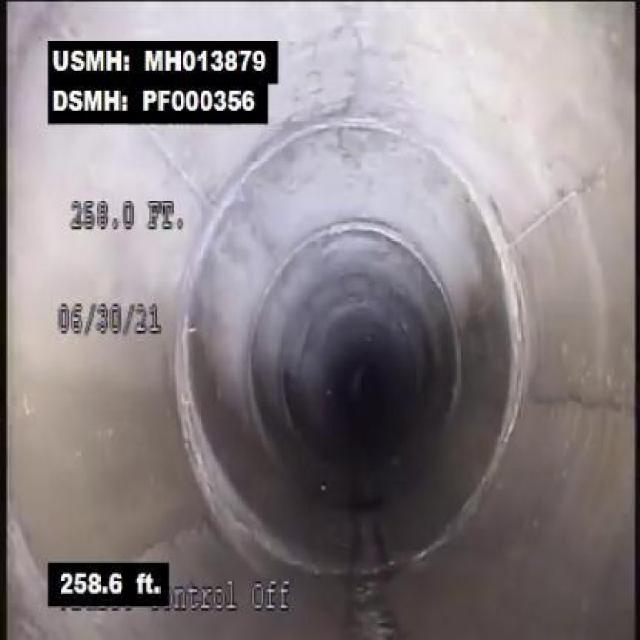Crack: (331, 11, 372, 117), (523, 383, 632, 419), (123, 518, 219, 557), (326, 125, 368, 183)
